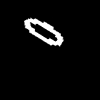chain: (24, 19, 62, 45)
